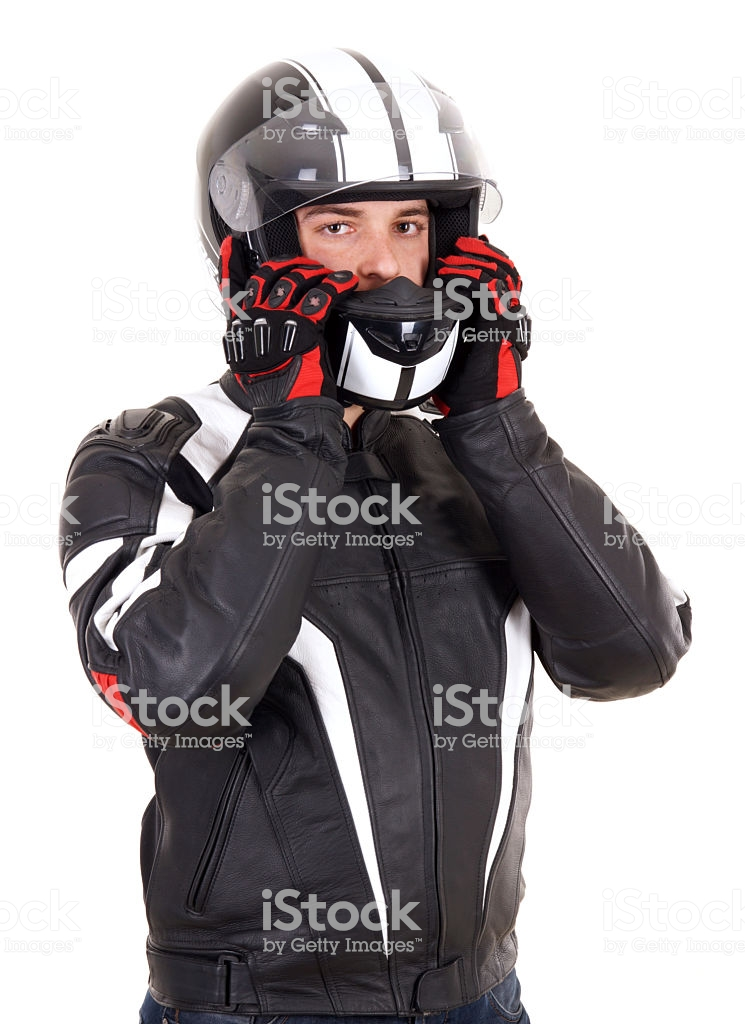helmet: (195, 54, 489, 409)
